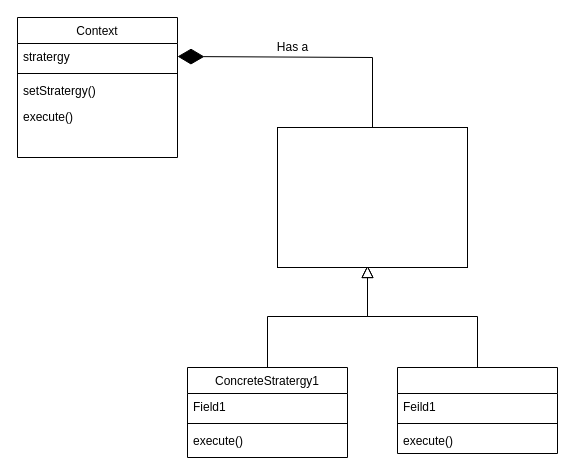
The diagram is 575 pixels wide and 475 high, and some of its shapes have lost their labels. The shapes that lost their labels are listed below. From the top down, each one's box as (x1, y1, x2, y2) in pixels, then its label:
(276, 126, 468, 268): <<Interface>> Strategy + field1: Type + field2: Type + execute()
(396, 366, 558, 454): ConcreteStratergy2
